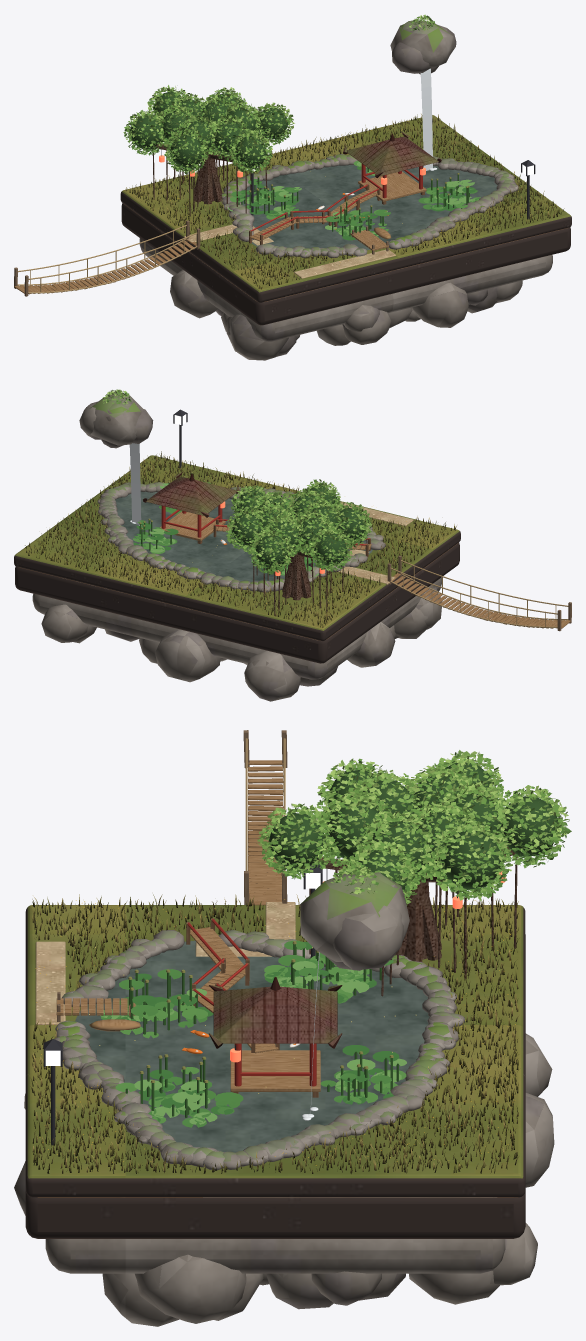
Rendered from unlock-lotus-thu.glb.
3 views of the same model, one above another, from view 1: azimuth 30°, elevation 25°; view 2: azimuth 150°, elevation 25°; view 3: azimuth 270°, elevation 25° (orthographic). The views are drawn at different scales.
Parts seen in each view (by area): view 1: unlock-lotus-static, sway.005-mesh, pond-bed, grass-right, fall-float; view 2: unlock-lotus-static, sway.005-mesh, grass-right, pond-bed, fall-float; view 3: unlock-lotus-static, sway.005-mesh, pond-bed, grass-right.
Part boxes in pixels (<box>): unlock-lotus-static: <box>14,14,571,360</box>; sway.005-mesh: <box>123,85,294,174</box>; pond-bed: <box>241,165,497,250</box>; grass-right: <box>125,114,564,289</box>; fall-float: <box>420,68,432,170</box>; unlock-lotus-static: <box>14,389,571,701</box>; sway.005-mesh: <box>226,479,372,574</box>; grass-right: <box>25,451,456,627</box>; pond-bed: <box>115,491,372,581</box>; fall-float: <box>129,443,141,524</box>; unlock-lotus-static: <box>14,730,554,1326</box>; sway.005-mesh: <box>257,750,571,905</box>; pond-bed: <box>75,940,429,1152</box>; grass-right: <box>28,894,519,1173</box>.
Bounding box in the file's own units: 10.08 × 5.08 × 5.58.
54 materials, 23 textured.
